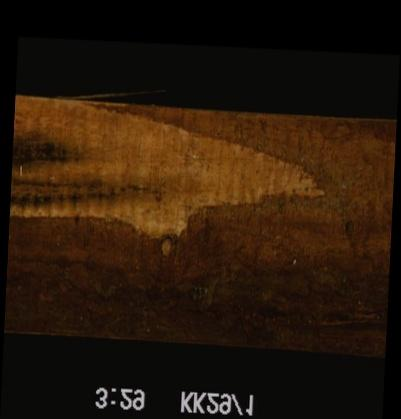wave: (9, 111, 390, 341)
